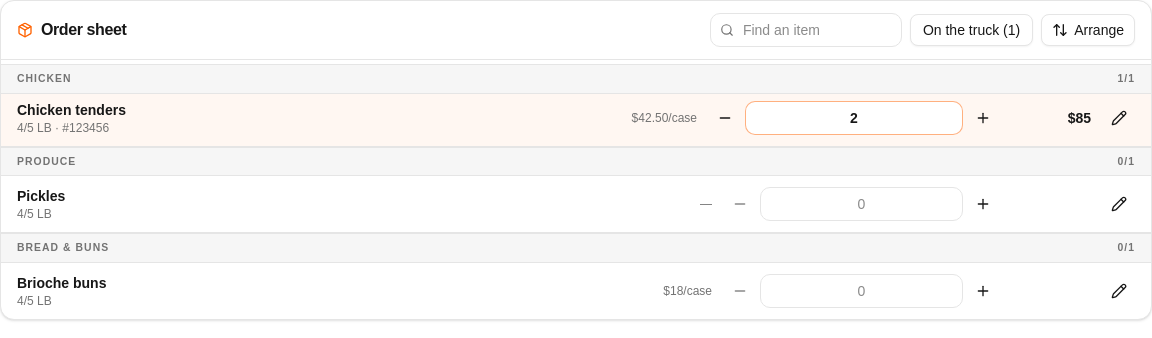
OrderSheet › narrows to what is on the truck
What coordinates should you click on to do the following:
click the button "On the truck (1)"
I would click on:
 (972, 30)
Its box is [910,14,1033,46].
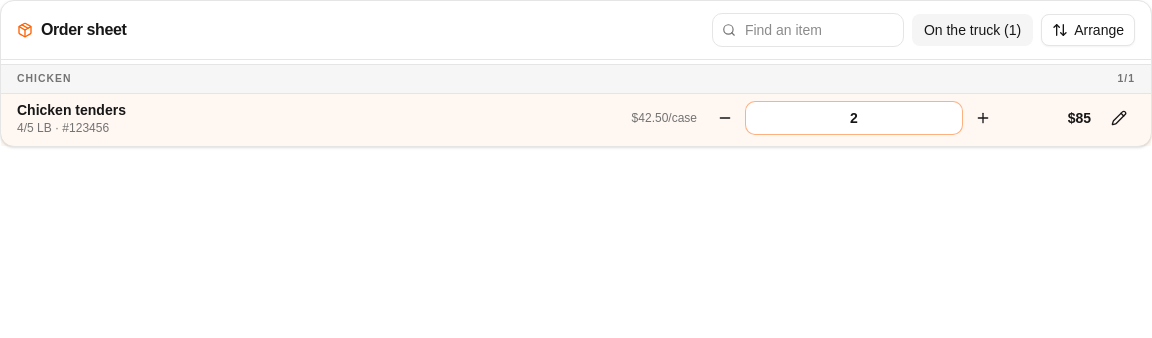
Expected: the text "Chicken tenders" is shown, [17,102,126,118]
Expected: the text "Pickles" is gone
